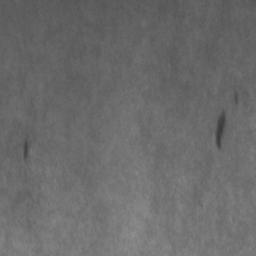Inclusion: (215, 110, 227, 150)
